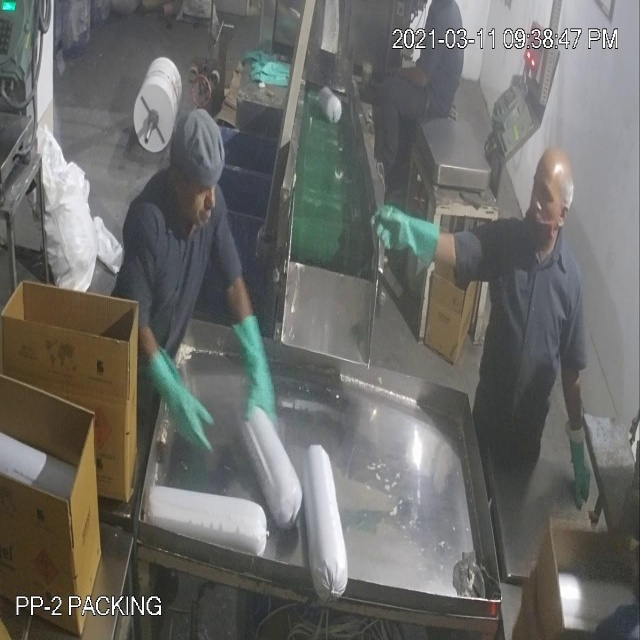Guantes: (140, 347, 227, 465), (230, 306, 290, 449), (365, 189, 451, 278), (560, 412, 600, 520)
